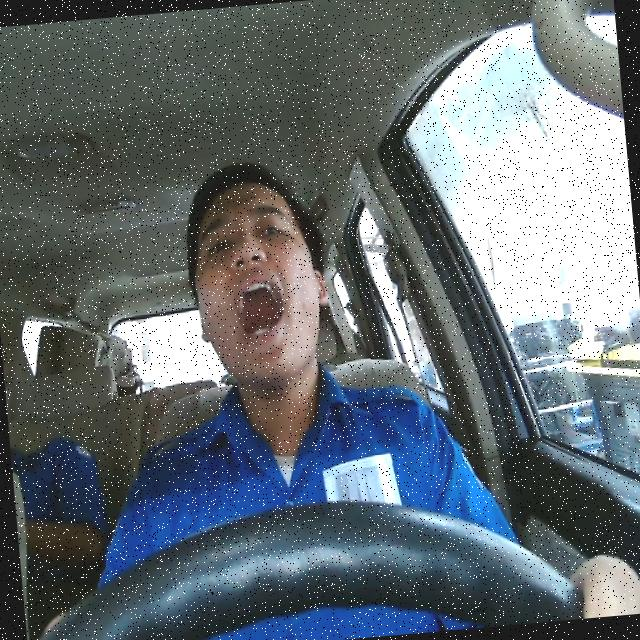yarning: (184, 174, 334, 390)
